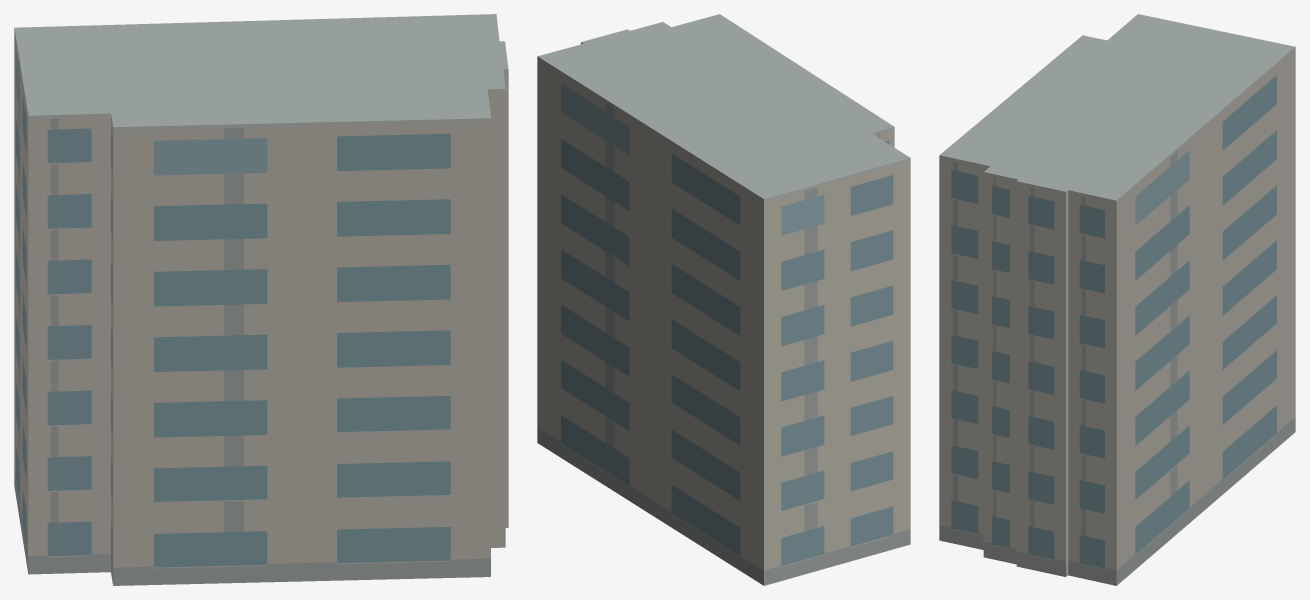
The model's file is survey-upis-32965797.glb.
3 views of the same model, side by side, from view 1: azimuth 30°, elevation 25°; view 2: azimuth 150°, elevation 25°; view 3: azimuth 270°, elevation 25° (orthographic). The views are drawn at different scales.
Parts seen in each view (by area): view 1: survey-upis-32965797.tmp; view 2: survey-upis-32965797.tmp; view 3: survey-upis-32965797.tmp.
Part boxes in pixels (x1,y1,x2,y2): survey-upis-32965797.tmp: (14,14,508,585); survey-upis-32965797.tmp: (537,14,910,585); survey-upis-32965797.tmp: (939,14,1295,585).
Bounding box in the file's own units: 31.7 × 30.5 × 25.57.
